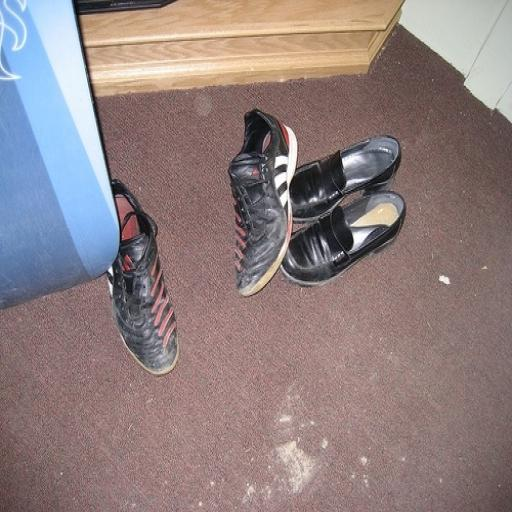shoe: (108, 180, 178, 376), (228, 110, 297, 296), (280, 192, 406, 286), (290, 135, 401, 223)
